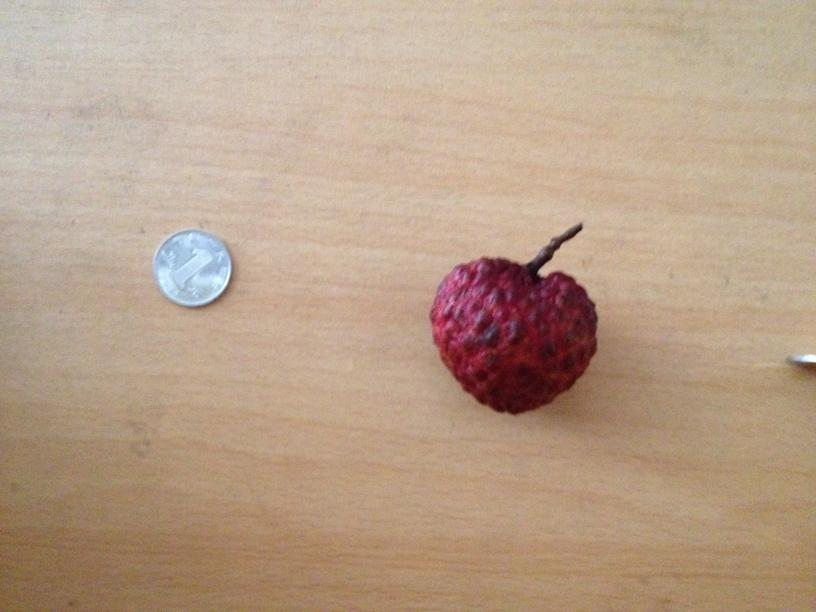coin: (155, 228, 231, 305)
litchi: (433, 255, 598, 416)
